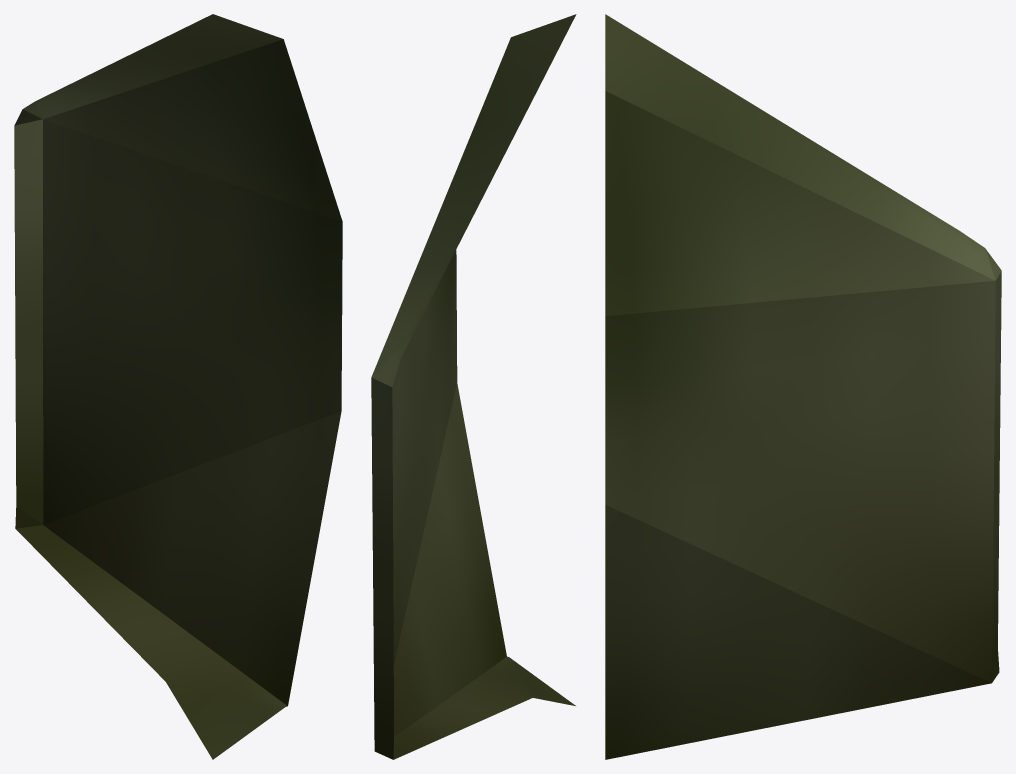
3 renders of one model, left to right at view 1: azimuth 30°, elevation 25°; view 2: azimuth 150°, elevation 25°; view 3: azimuth 270°, elevation 25°, orthographic. The views are drawn at different scales.
Bounding box in the file's own units: 0.00784 × 0.043 × 0.0208.
1 material, 1 textured.
